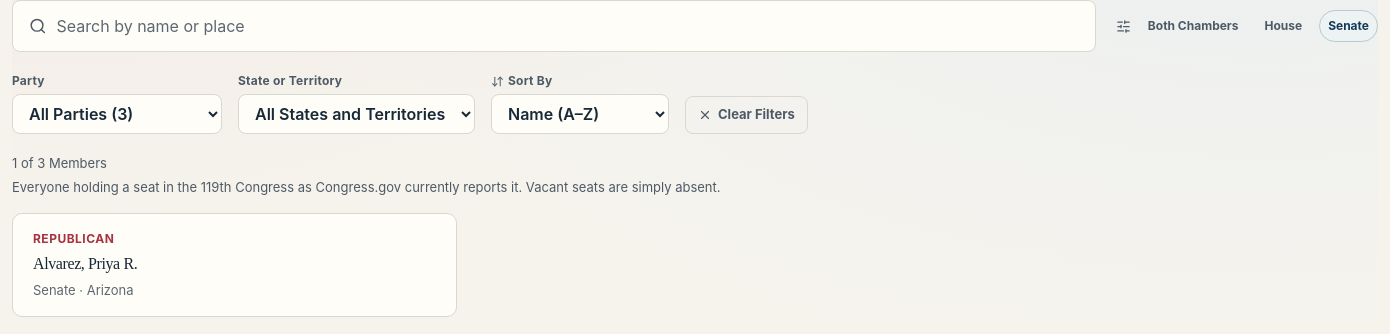
Test: MemberDirectory following a URL it did not write › still lets the reader narrow normally after adopting a link the server could not read
Click the button "Both Chambers" at (1193,26), box [1139, 10, 1247, 42]
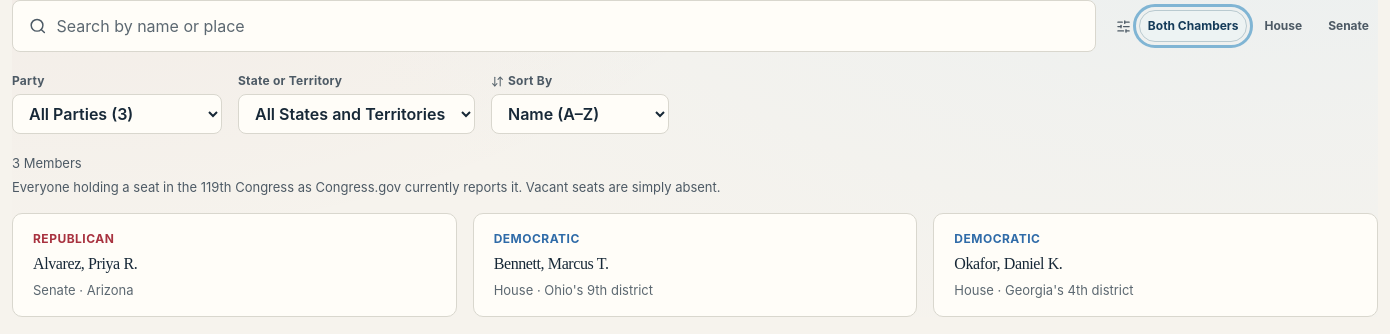
Expected: the number of links is 3, [33, 255, 137, 272]; [494, 255, 609, 272]; [954, 255, 1062, 272]
